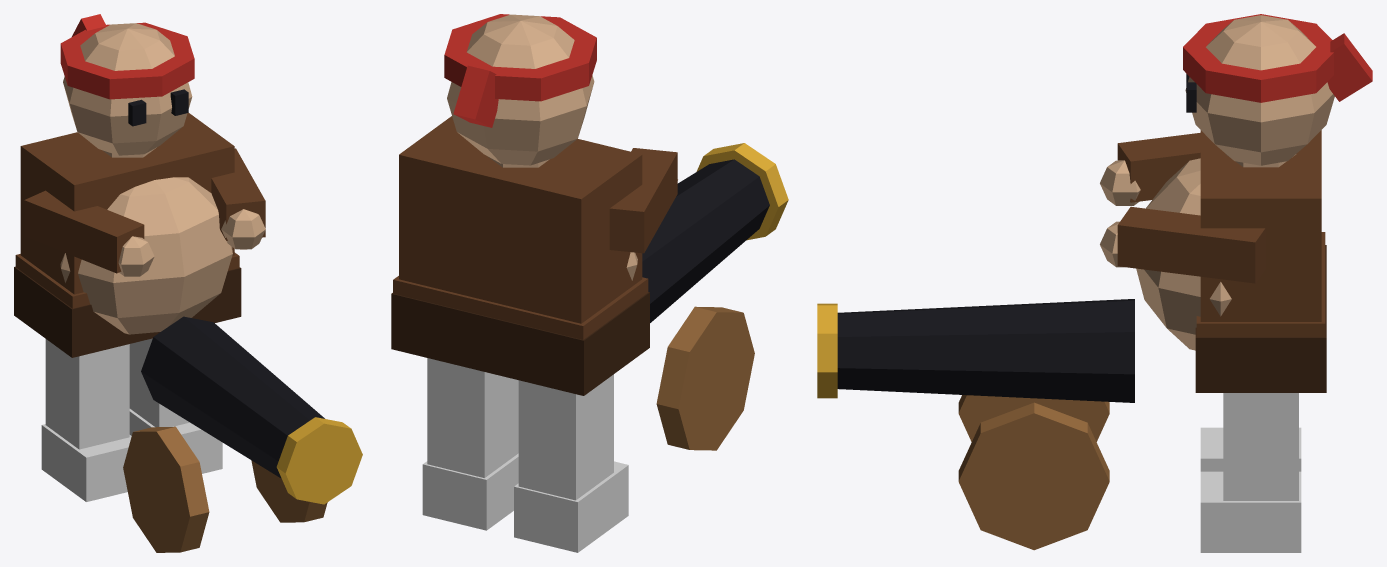
File: u_cannoneer.fbx
3 renders of one model, left to right at view 1: azimuth 30°, elevation 25°; view 2: azimuth 150°, elevation 25°; view 3: azimuth 270°, elevation 25°, orthographic. The views are drawn at different scales.
Parts seen in each view (by area): view 1: u_cannoneer_Body, u_cannoneer_LegR, u_cannoneer_LegL; view 2: u_cannoneer_Body, u_cannoneer_LegR, u_cannoneer_LegL; view 3: u_cannoneer_Body, u_cannoneer_LegL, u_cannoneer_LegR.
Boxes of the visible parts, bbox=[...] form: u_cannoneer_Body: bbox=[14, 14, 362, 552]; u_cannoneer_LegR: bbox=[41, 339, 131, 501]; u_cannoneer_LegL: bbox=[129, 338, 222, 473]; u_cannoneer_Body: bbox=[391, 14, 788, 450]; u_cannoneer_LegR: bbox=[514, 374, 628, 552]; u_cannoneer_LegL: bbox=[422, 358, 518, 530]; u_cannoneer_Body: bbox=[817, 14, 1372, 550]; u_cannoneer_LegL: bbox=[1200, 393, 1301, 552]; u_cannoneer_LegR: bbox=[1200, 427, 1301, 471].
Bounding box in the file's own units: 0.5472 × 1.08 × 1.1.
